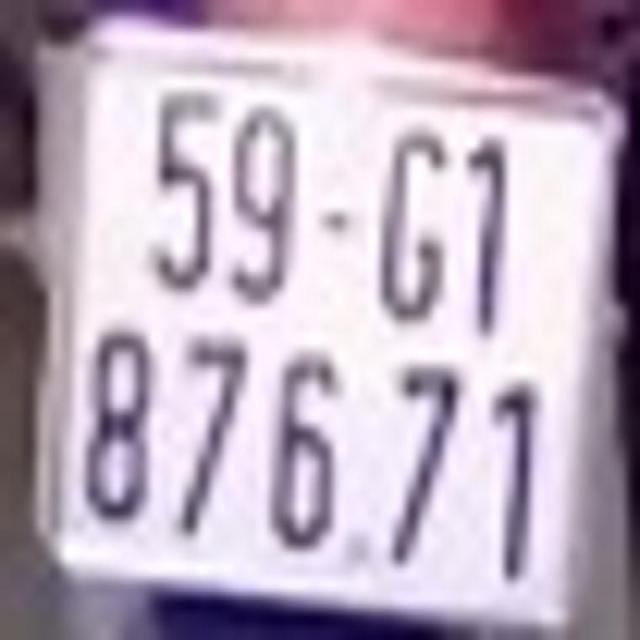1: (462, 132, 517, 338), (495, 369, 539, 584)
5: (146, 76, 226, 294)
6: (271, 341, 345, 562)
7: (380, 353, 463, 578), (168, 332, 250, 548)
8: (77, 322, 154, 529)
9: (226, 106, 298, 317)
G: (368, 128, 451, 323)
